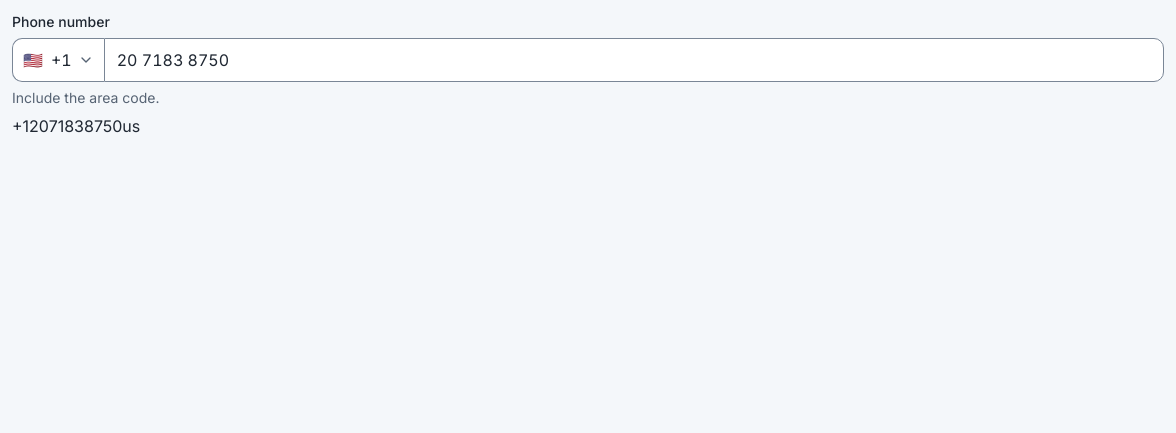
Test: PhoneInput (F6-2) › picks a country from the list and re-formats the number for it
Press Enter in the dropdown named "Country code", box [12,38,104,82]
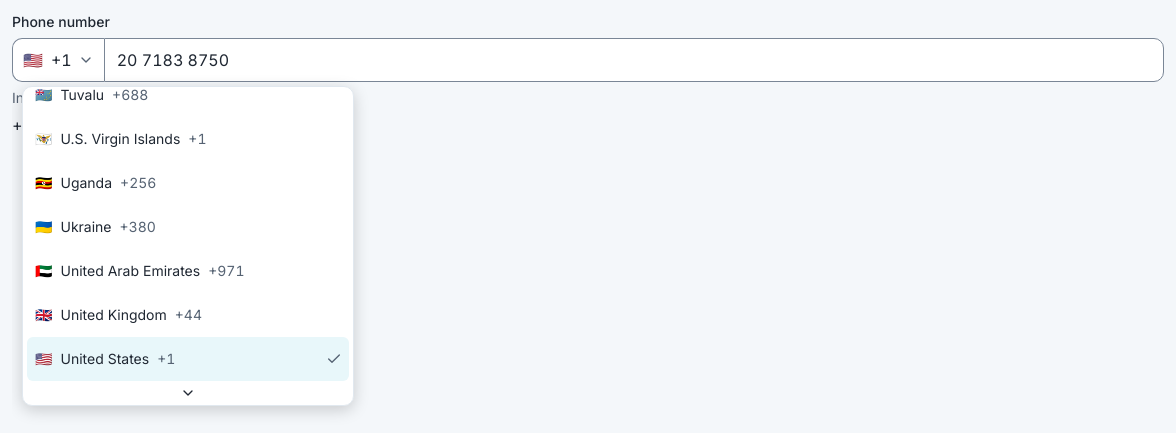
Expected: the option "🇬🇧 United Kingdom +44" is shown
Click the option "🇬🇧 United Kingdom +44" at [118, 314], box [35,306,202,323]
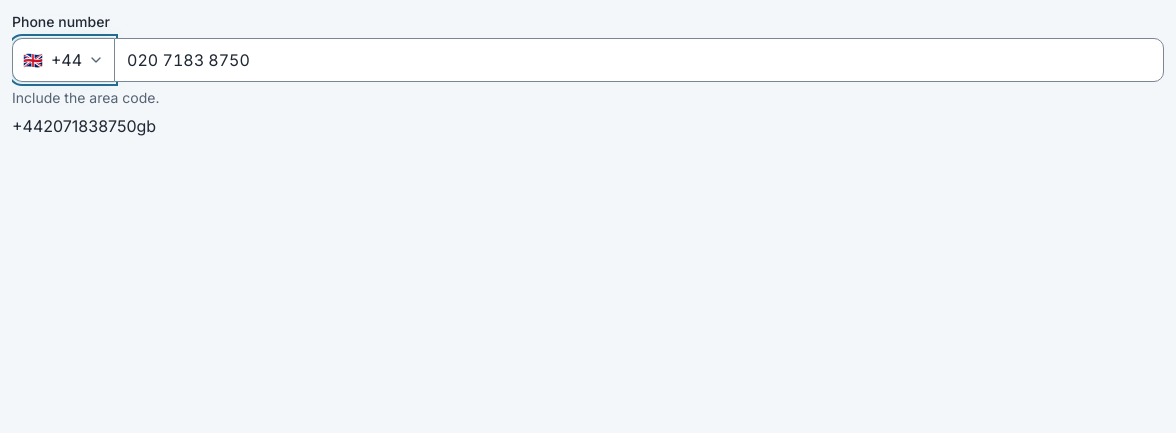
Expected: the text with test id "region" reads "gb", [136,116,156,136]
Expected: the field labelled "Phone number" holds "020 7183 8750", [114,38,1164,82]
Expected: the text with test id "e164" reads "+442071838750", [12,116,136,136]
